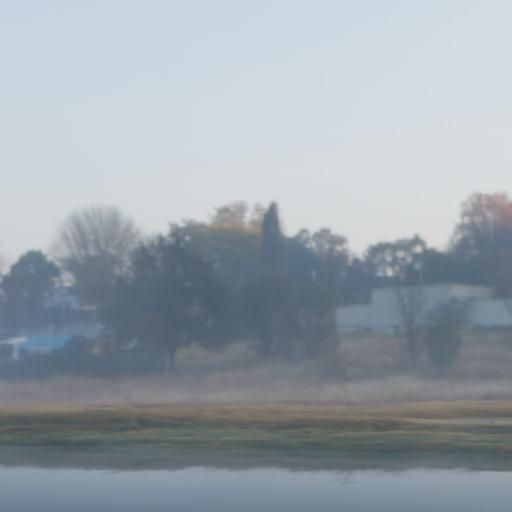nothing: (0, 1, 512, 512)
